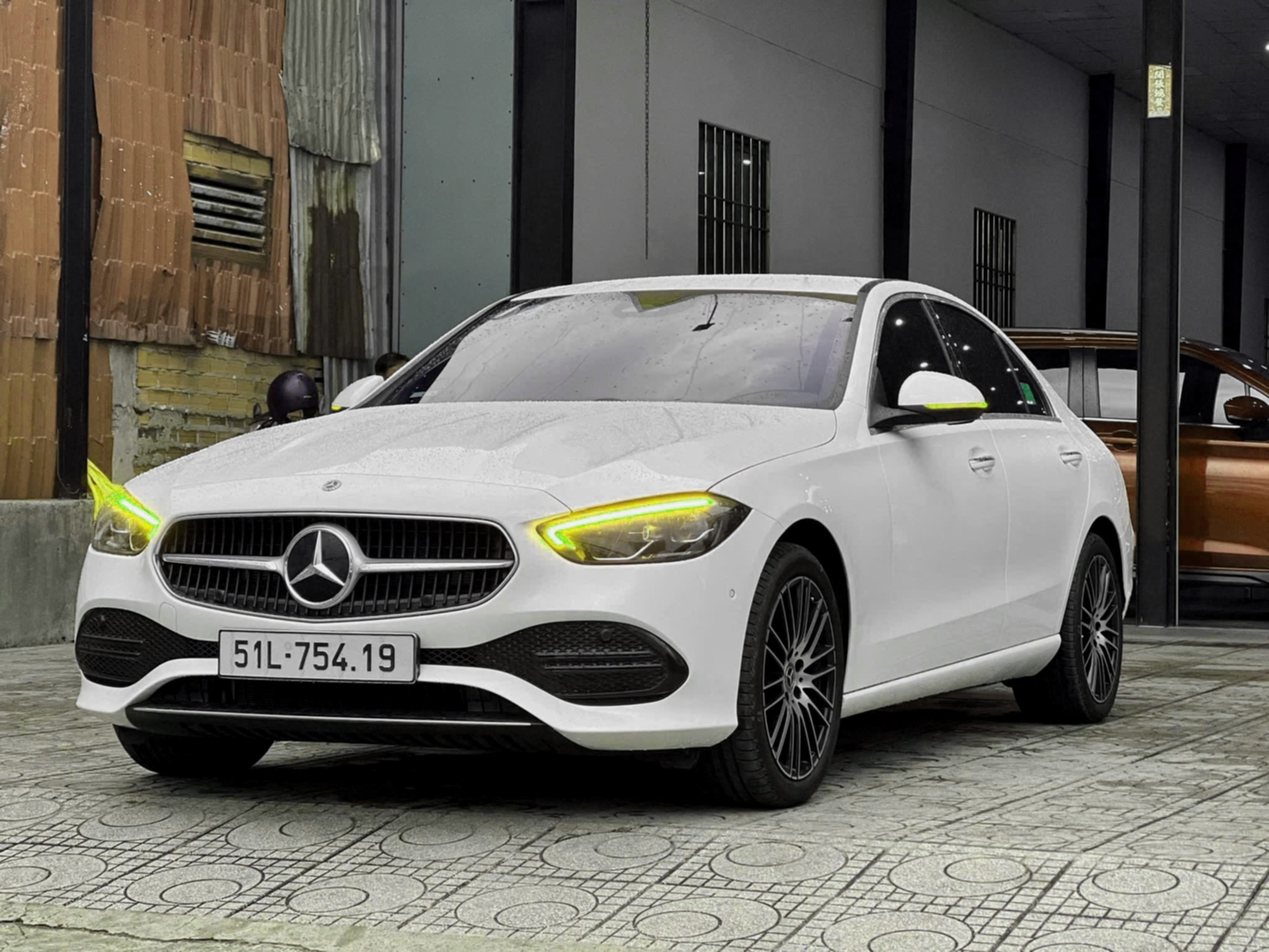Bien-so: (196, 595, 404, 654)
